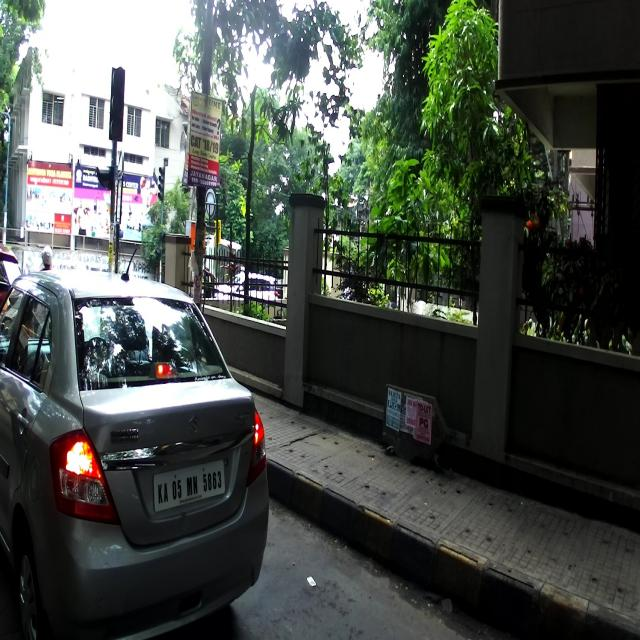car: (0, 245, 269, 638)
